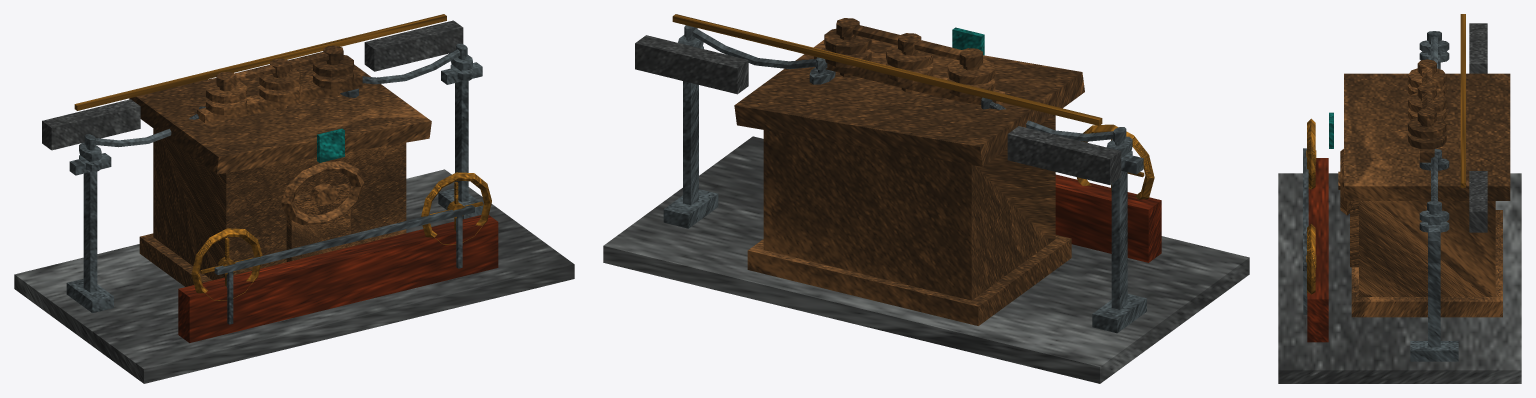
File: dam-crest-gate-house.glb
3 views of the same model, side by side, from view 1: azimuth 30°, elevation 25°; view 2: azimuth 150°, elevation 25°; view 3: azimuth 270°, elevation 25° (orthographic). The views are drawn at different scales.
Visible parts, largest first — view 1: dam-crest-gate-house; view 2: dam-crest-gate-house; view 3: dam-crest-gate-house.
Boxes of the visible parts, x1,y1,x2,y2 form: dam-crest-gate-house: [14, 14, 574, 383]; dam-crest-gate-house: [603, 14, 1249, 383]; dam-crest-gate-house: [1278, 14, 1521, 383].
Bounding box in the file's own units: 9.2 × 4.3 × 4.8.
1 material, 1 textured.
